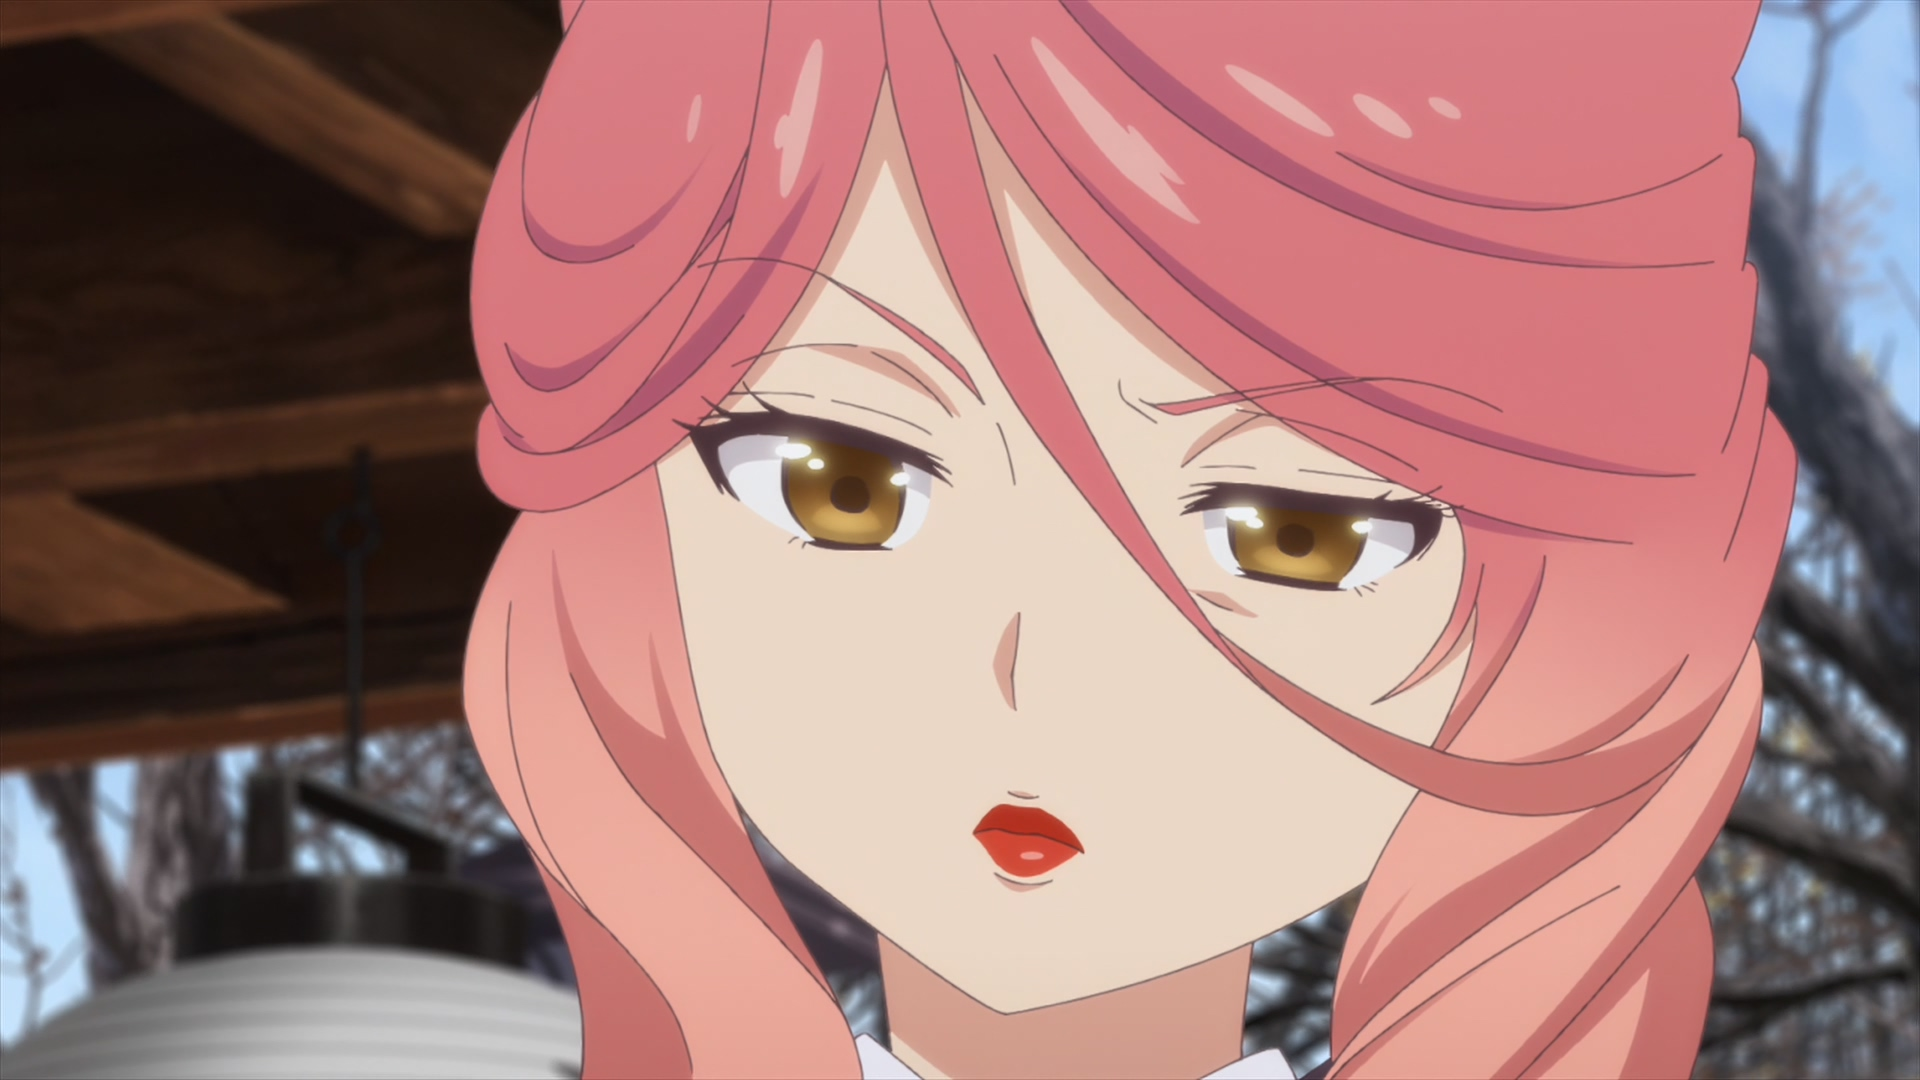椿: (462, 1, 1797, 1080)
